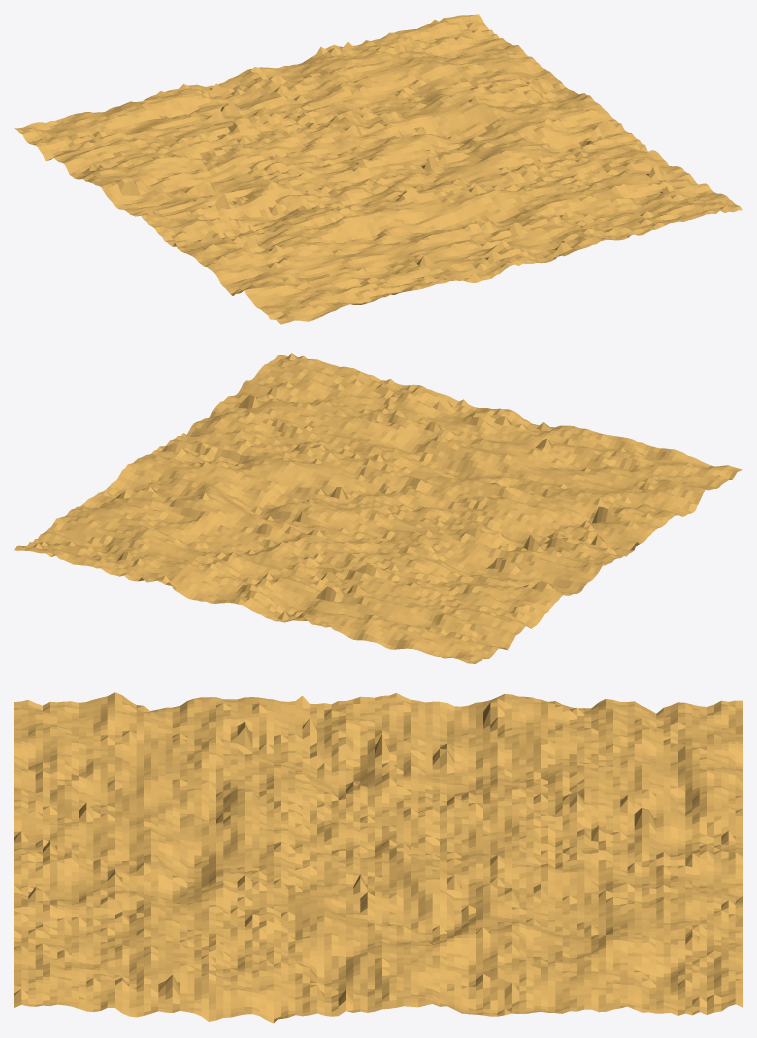
The picture shows the model from 3 angles, top to bottom: view 1: azimuth 30°, elevation 25°; view 2: azimuth 150°, elevation 25°; view 3: azimuth 270°, elevation 25°; orthographic projection. The views are drawn at different scales.
Parts seen in each view (by area): view 1: Plane; view 2: Plane; view 3: Plane.
Boxes of the visible parts, box(x1,y1,x2,y2) form: Plane: box(14, 14, 742, 324); Plane: box(14, 353, 742, 663); Plane: box(14, 692, 742, 1023).
Bounding box in the file's own units: 500 × 27.26 × 500.
